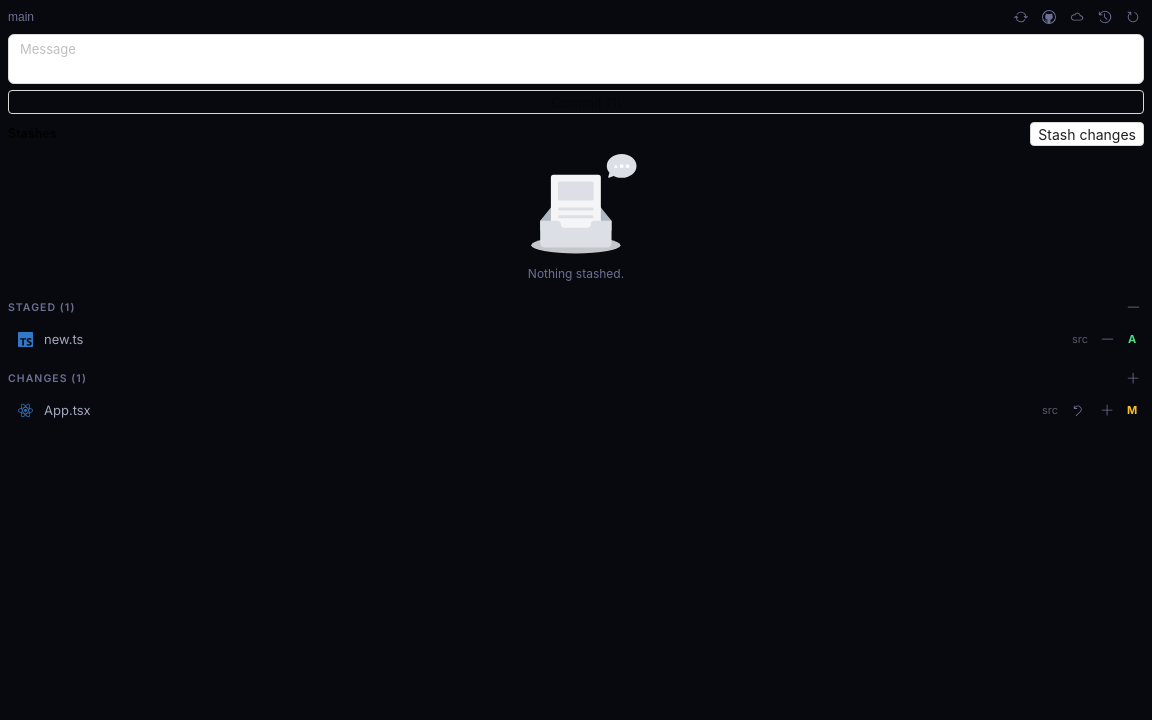
it: SourceControlPanel pushing › says the token is not saved anywhere
The width and height of the screenshot is (1152, 720).
Check: the text "App.tsx" is shown, box [44,402,91,418]
Click the button named "Remotes" at {"x": 1077, "y": 17}, box [1066,6,1088,28]
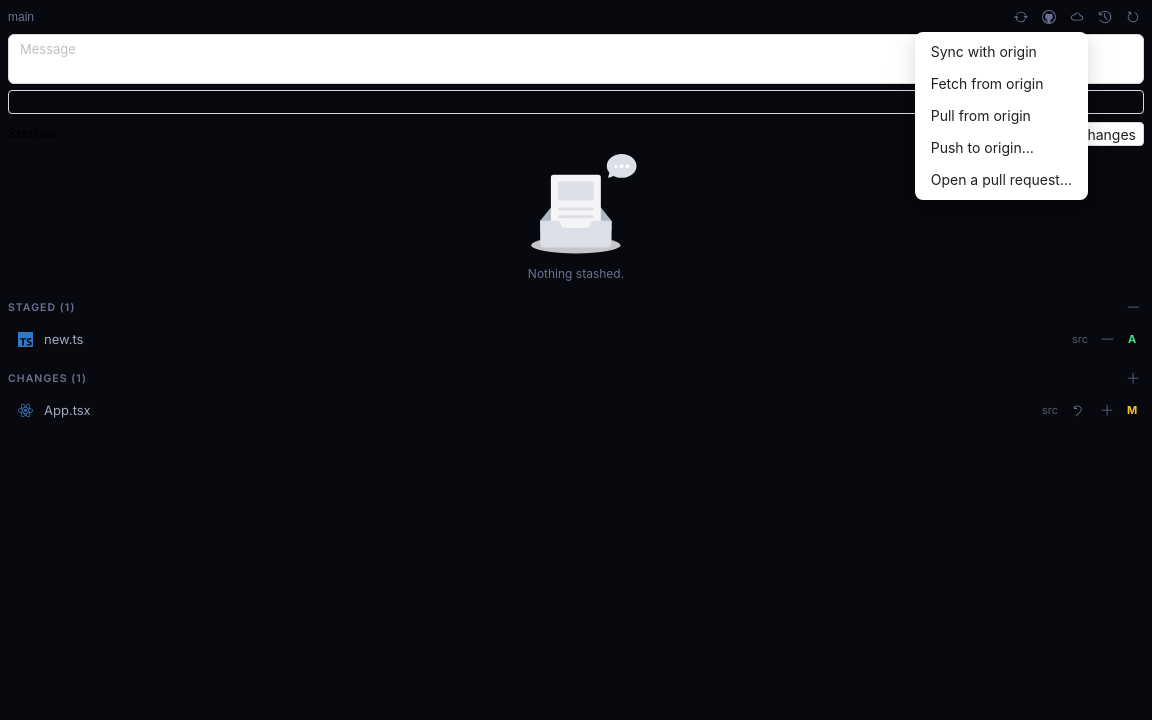
Click the menu item "Push to origin…" at {"x": 982, "y": 148}, box [931,139,1034,156]
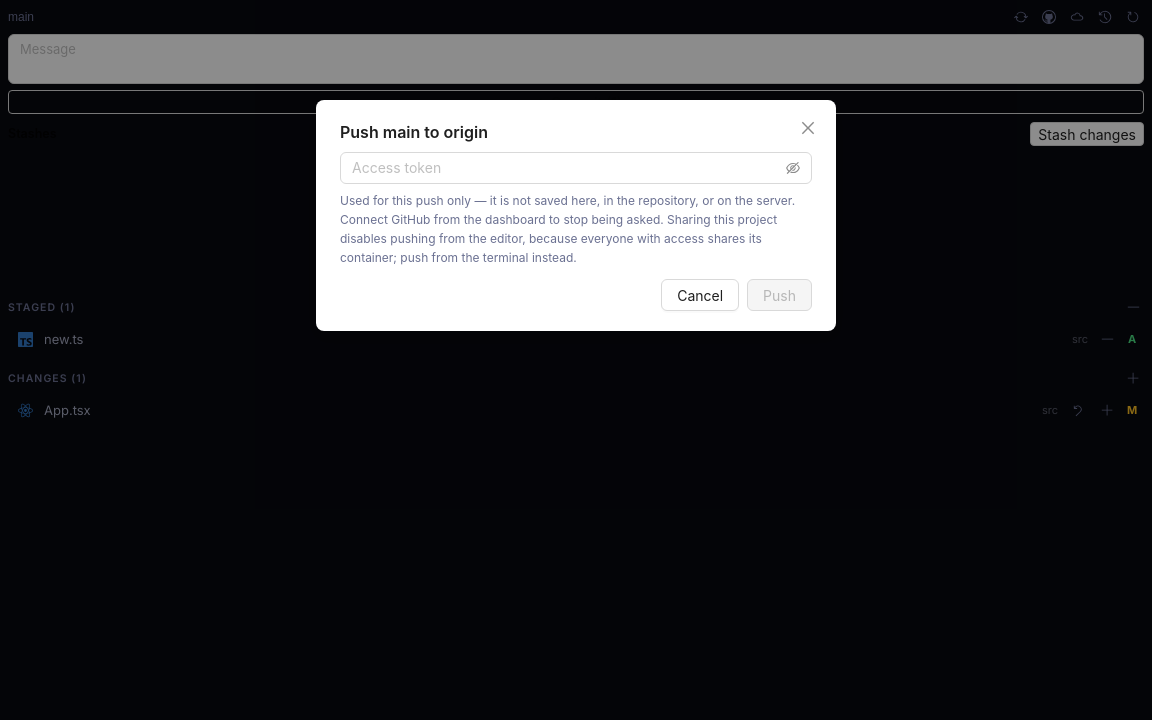
Check: the text "not saved here, in the repository, or" is shown, box [340,193,795,264]
